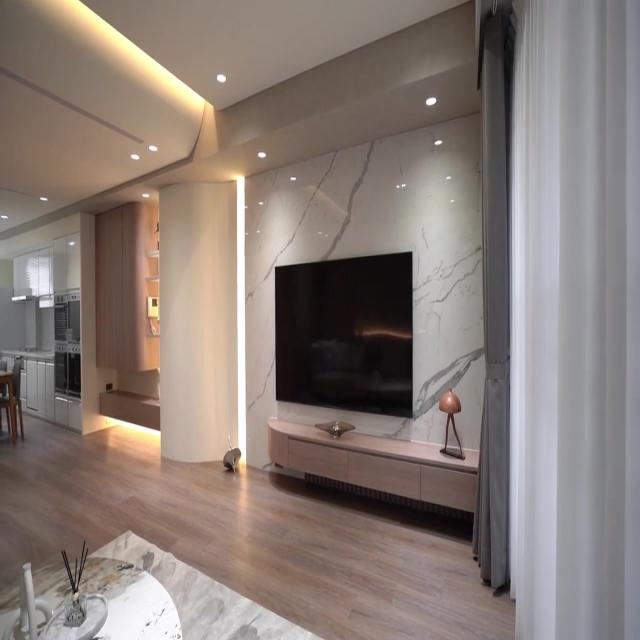obstacle: (0, 528, 324, 639), (265, 412, 480, 520)
